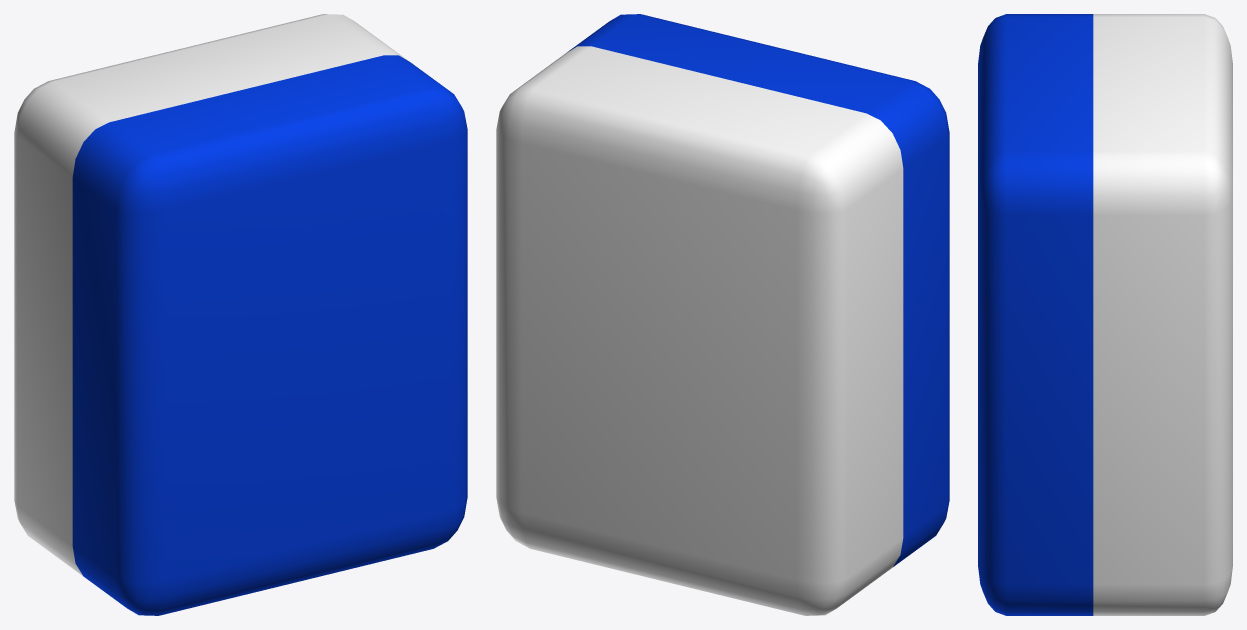
File: 3DCardShort.fbx
3 renders of one model, left to right at view 1: azimuth 30°, elevation 25°; view 2: azimuth 150°, elevation 25°; view 3: azimuth 270°, elevation 25°, orthographic.
Parts seen in each view (by area): view 1: 立方体; view 2: 立方体; view 3: 立方体.
Part boxes in pixels (box(x1,y1,x2,y2)): 立方体: box(14, 14, 467, 615); 立方体: box(496, 14, 949, 615); 立方体: box(978, 14, 1232, 615).
Size of the model in its own units: 285 by 180 by 360.
